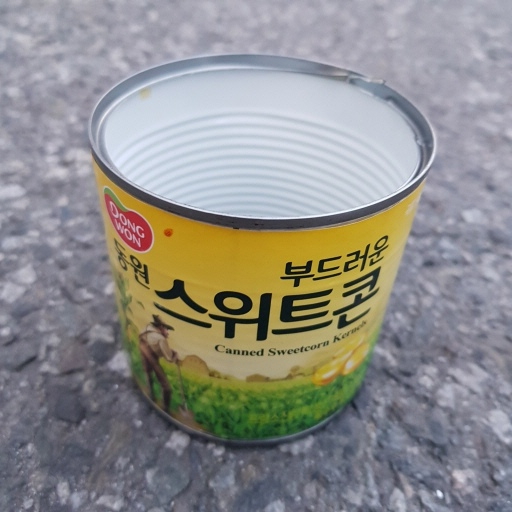Metal_1: (87, 50, 439, 446)
